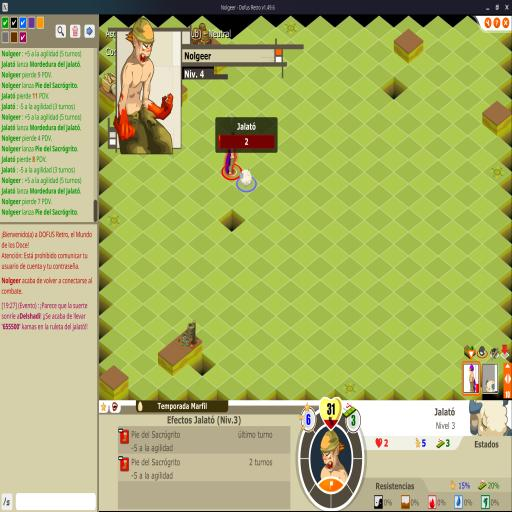Enemigos: (238, 168, 253, 188)
Personaje: (224, 132, 238, 176)
